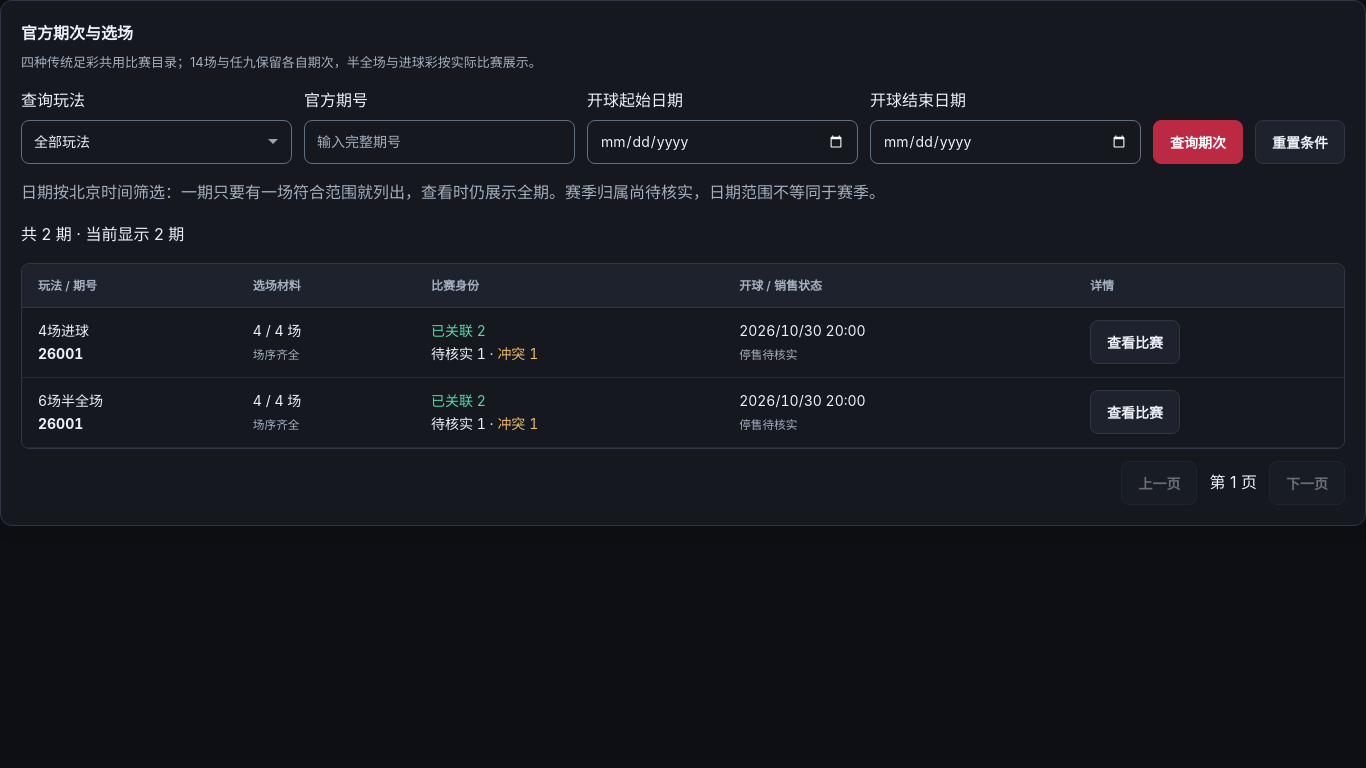
it: PoolFixtureCatalog › 快速切换后较慢的旧详情不能覆盖新选择
The width and height of the screenshot is (1366, 768).
Click the button with aria-label "查看4场进球第26001期" at (1135, 342), box x1=1090 y1=320 x2=1180 y2=364
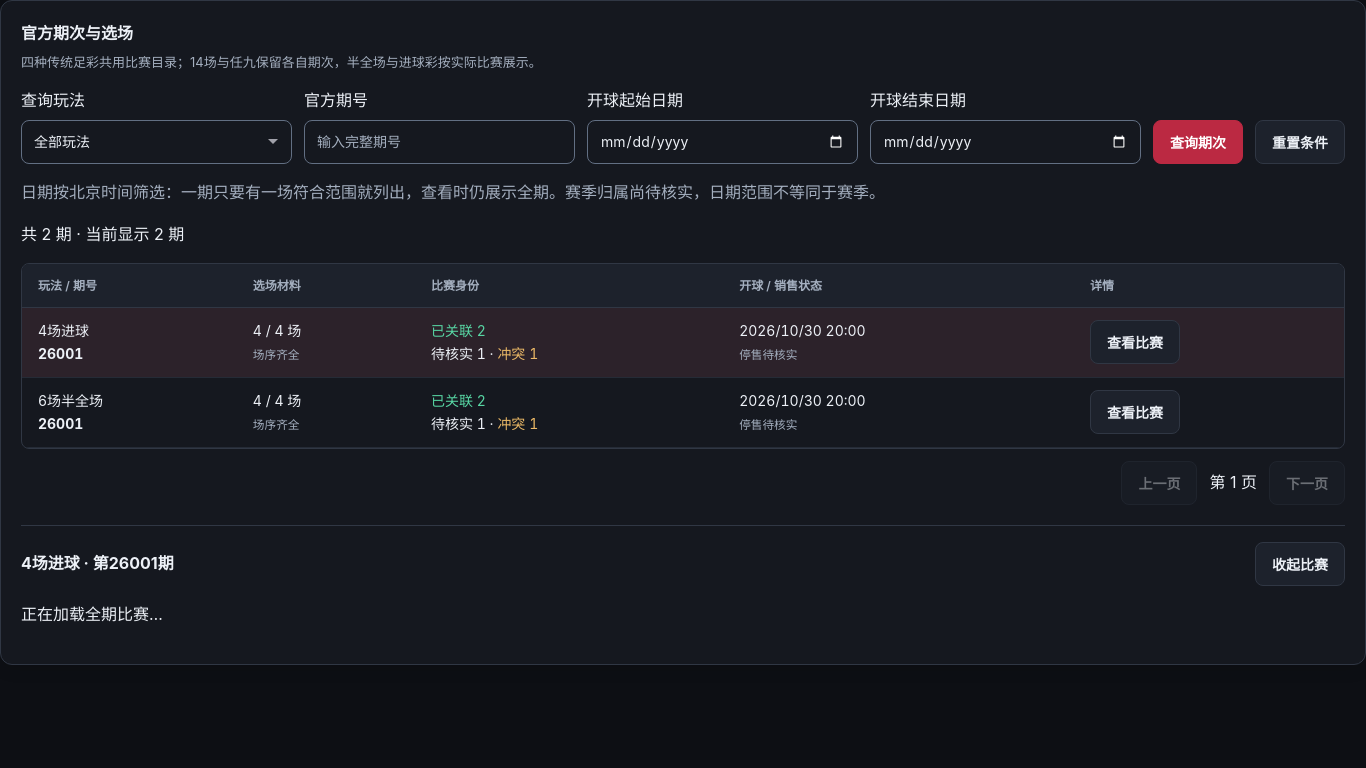
Click the button with aria-label "查看6场半全场第26001期" at (1135, 412), box x1=1090 y1=390 x2=1180 y2=434
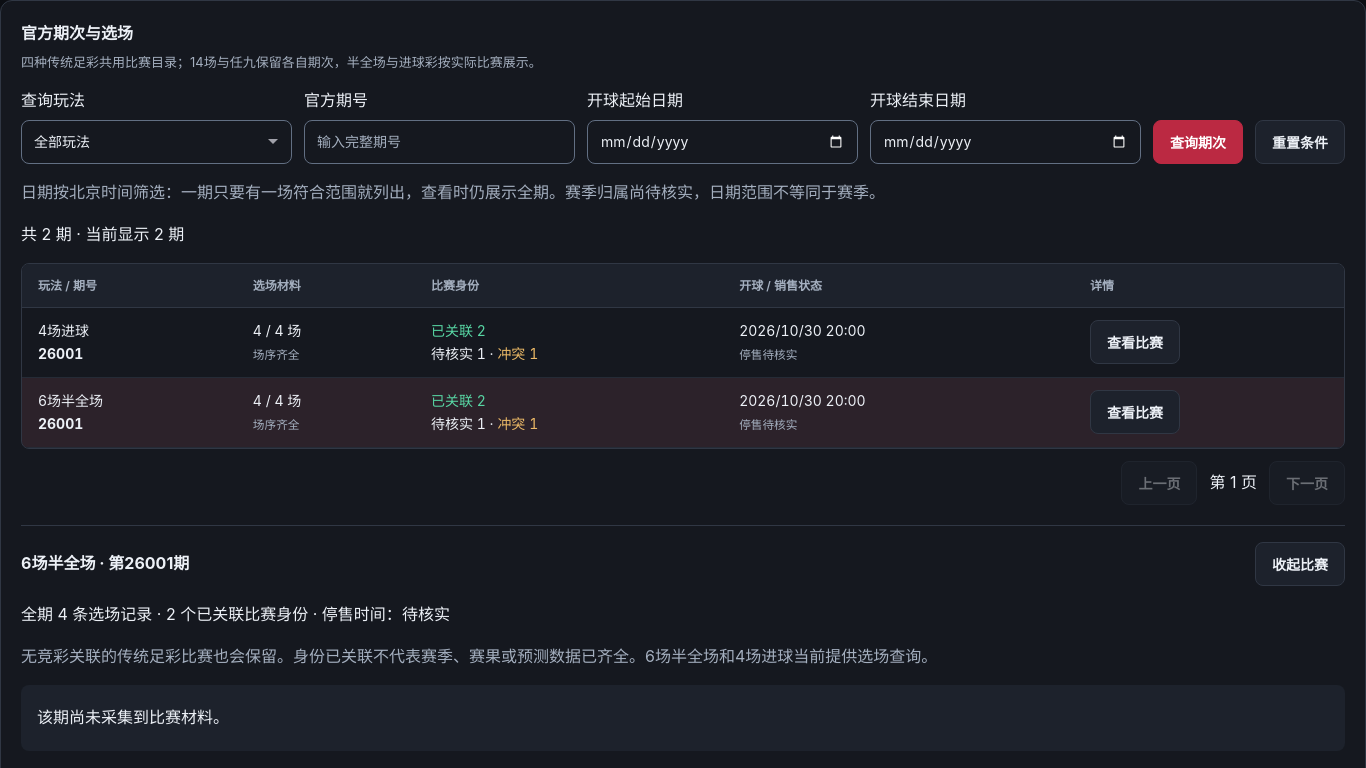
Expected: the heading "6场半全场 · 第26001期" is shown, x1=21 y1=551 x2=189 y2=577
